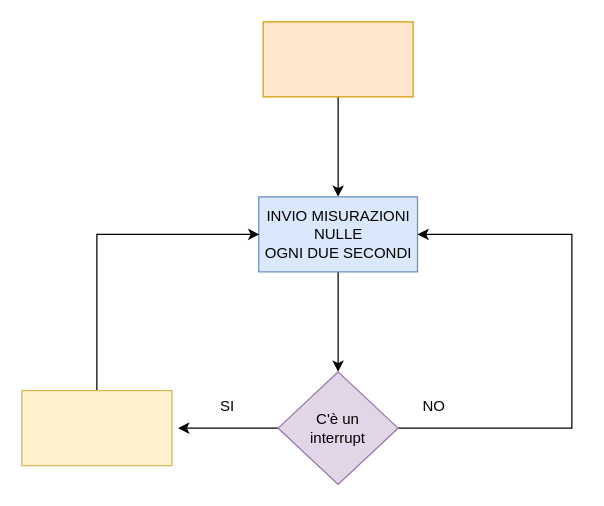
The diagram is 604 pixels wide and 506 high, and some of its shapes have lost their labels. The centre of each missing label's shape, as x and y in pixels:
"AVVIO" belongs at (337,59).
"INVIO MISURAZIONE DEL SENSORE DX/SX" belongs at (96,427).
